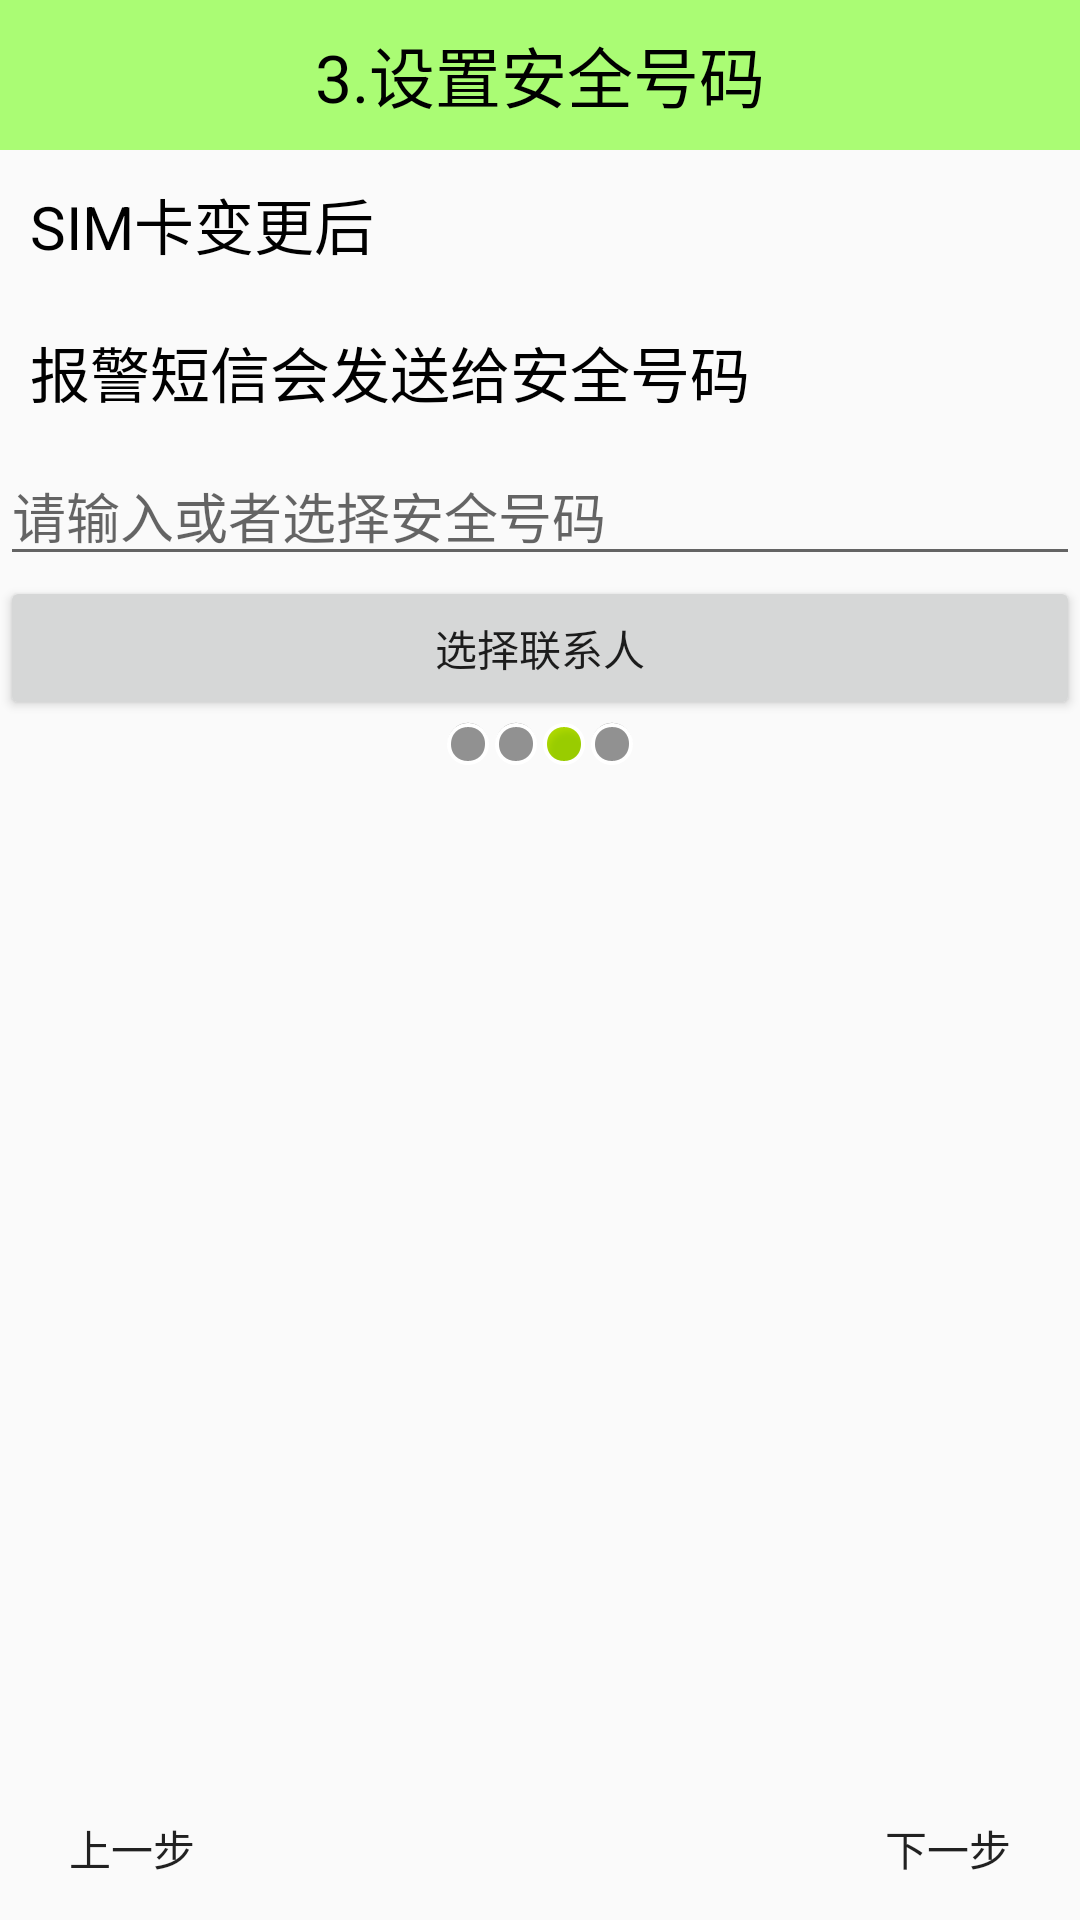

Locate icon controls on the screen. Image size 1080 × 1920, boxes as (x1, y1, x2, y2).
presence invisible: (451, 723, 485, 761), (499, 723, 533, 761), (595, 723, 629, 761)
presence online: (547, 727, 581, 761)
